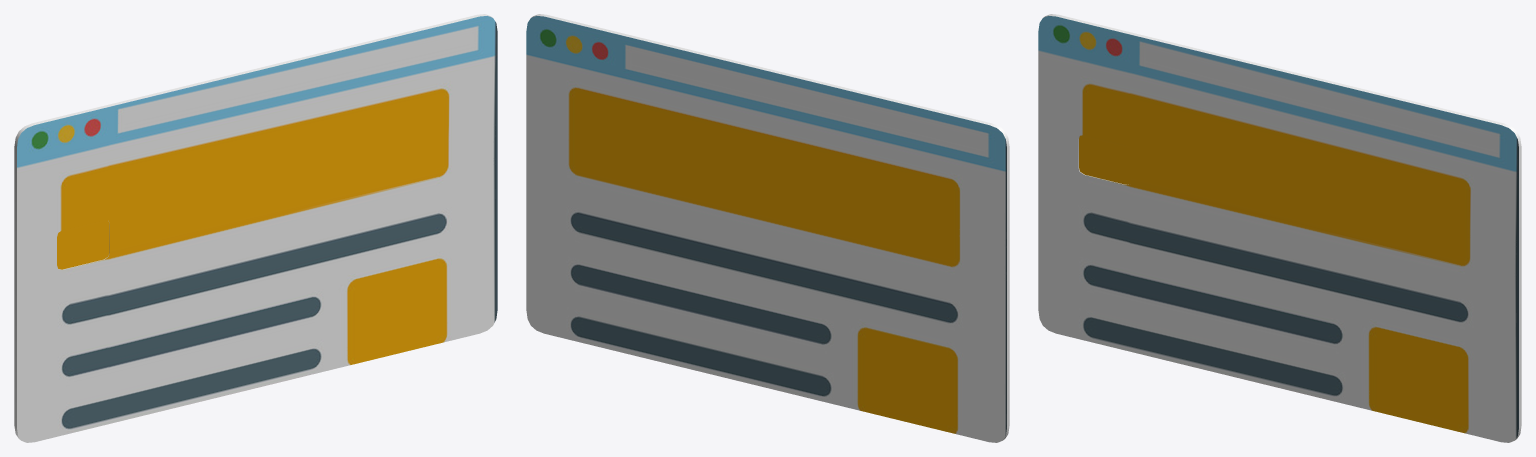
The picture shows the model from 3 angles, left to right: view 1: azimuth 30°, elevation 25°; view 2: azimuth 150°, elevation 25°; view 3: azimuth 330°, elevation 25°; orthographic projection.
Parts seen in each view (by area): view 1: Box001; view 2: Box001; view 3: Box001.
Part boxes in pixels (box(x1,y1,x2,y2)): Box001: box(14, 14, 497, 442); Box001: box(526, 14, 1009, 442); Box001: box(1038, 14, 1521, 442).
Size of the model in its own units: 4.57 by 2.88 by 0.0406.
1 material, 1 textured.
